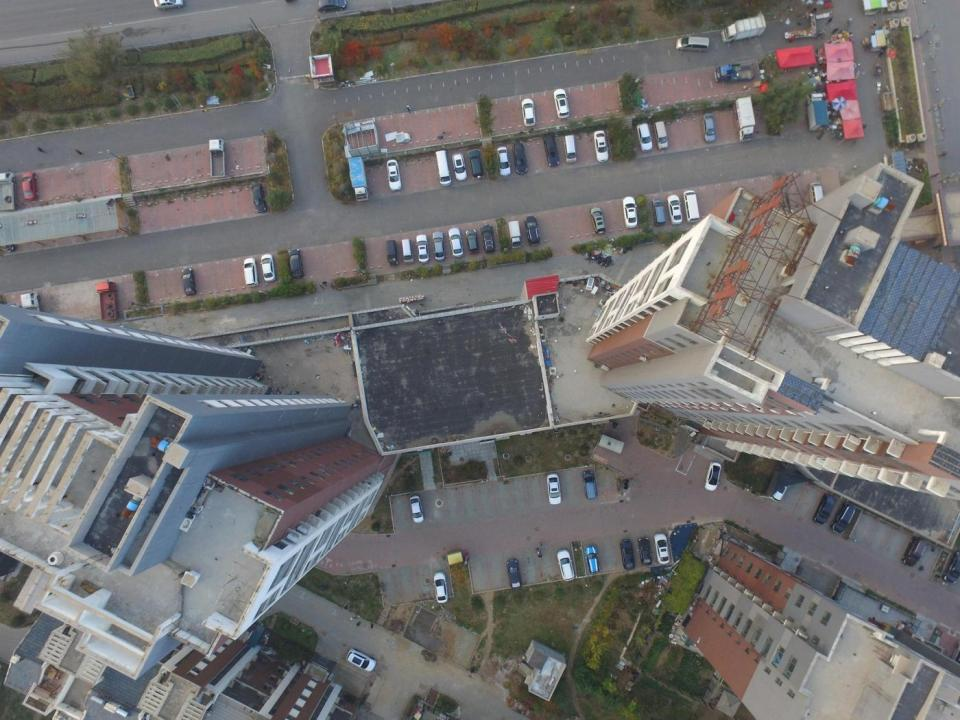car: (813, 494, 836, 524), (0, 218, 16, 251), (432, 572, 449, 603), (943, 552, 960, 583), (654, 532, 670, 564), (622, 196, 638, 228), (512, 142, 528, 174), (251, 183, 267, 213), (288, 248, 304, 278), (546, 473, 561, 505), (448, 227, 464, 257), (705, 461, 721, 490), (544, 136, 559, 166), (22, 172, 38, 200), (181, 268, 197, 296), (387, 159, 401, 191), (594, 130, 608, 162), (667, 195, 682, 224), (620, 539, 634, 570), (431, 231, 445, 261), (507, 560, 521, 589), (260, 253, 275, 280), (415, 234, 428, 264), (497, 147, 510, 176), (315, 0, 346, 12), (638, 537, 651, 565), (703, 113, 715, 143), (522, 99, 535, 126), (410, 497, 423, 523), (153, 0, 183, 10)
truck: (721, 16, 766, 42), (733, 97, 755, 142), (348, 156, 368, 201), (95, 280, 117, 320), (20, 292, 40, 334), (714, 63, 755, 82), (1, 303, 20, 339), (209, 138, 225, 177), (0, 172, 16, 210), (508, 220, 521, 248)
van: (901, 536, 926, 567), (832, 502, 856, 534), (346, 650, 376, 671), (436, 150, 452, 186), (676, 36, 709, 52), (683, 190, 699, 223), (557, 550, 574, 581), (553, 88, 570, 118), (467, 149, 484, 179), (770, 477, 790, 502), (242, 258, 259, 286), (636, 123, 652, 152), (524, 216, 540, 245), (582, 470, 597, 499), (654, 120, 668, 150), (585, 544, 599, 572), (808, 183, 823, 209), (590, 207, 605, 233), (452, 153, 466, 180), (651, 199, 665, 225), (564, 135, 577, 163), (482, 224, 494, 252), (466, 229, 478, 254), (386, 240, 398, 265), (402, 239, 413, 263)
